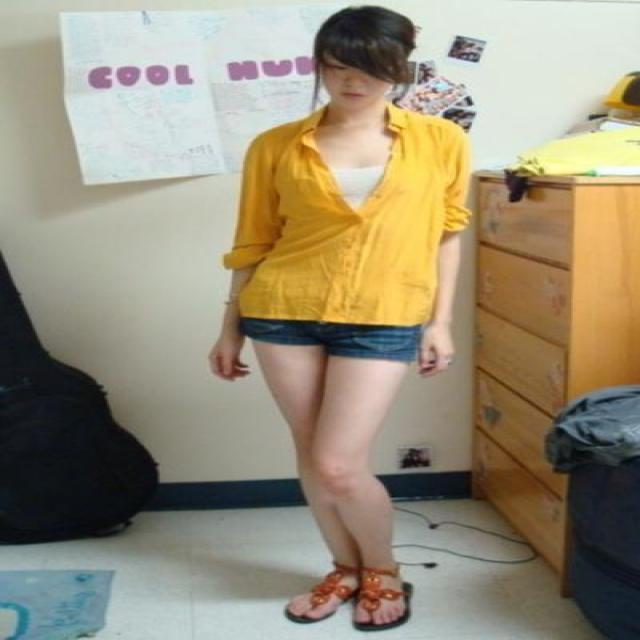shirt: (224, 107, 470, 324)
shoe: (288, 565, 411, 625)
shorts: (233, 314, 422, 361)
